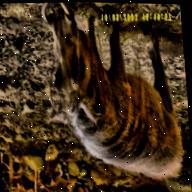boar: (36, 1, 188, 187)
